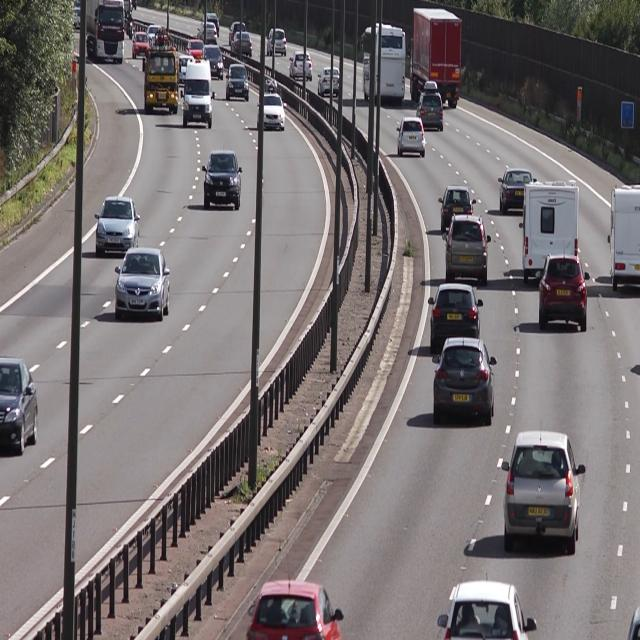Car: (498, 428, 585, 548), (519, 173, 584, 285), (430, 334, 502, 428), (408, 5, 462, 109), (534, 254, 592, 336), (0, 355, 41, 455), (114, 246, 169, 318), (428, 280, 483, 350), (358, 24, 405, 104), (443, 216, 493, 284), (142, 34, 180, 116), (199, 149, 245, 209), (93, 196, 138, 256), (83, 4, 124, 62), (437, 178, 478, 235), (180, 56, 212, 128), (414, 79, 445, 137), (256, 76, 286, 130), (498, 166, 533, 211), (394, 116, 425, 159), (202, 41, 225, 84), (225, 60, 249, 101), (317, 61, 342, 98), (289, 50, 312, 80), (266, 26, 286, 55), (131, 30, 148, 60)
